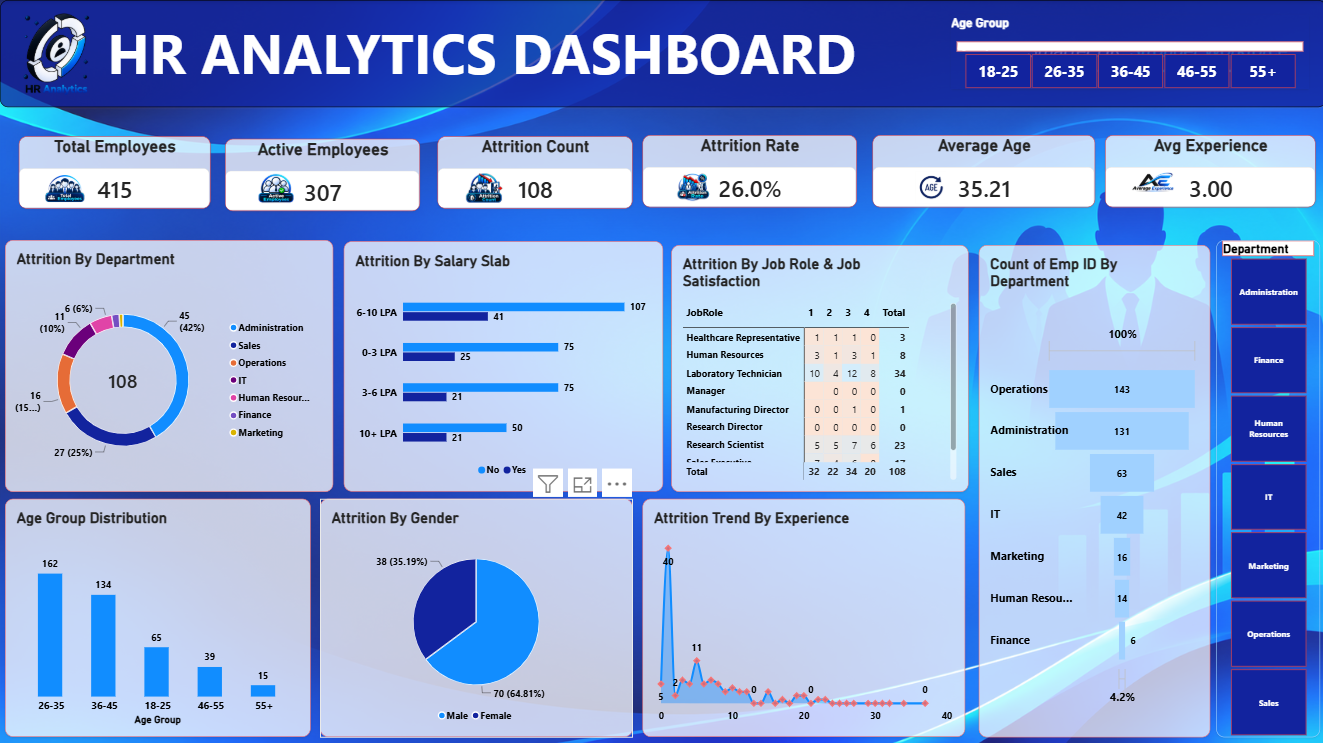

The dashboard page shown, as its layout file describes it:
{"tool":"powerbi","page":{"name":"Page 1","canvas":[1920,1080],"ordinal":0},"visuals":[{"type":"textbox","box":[0,0,1920,155],"z":0},{"type":"image","box":[7.5,10,147.5,132.5],"z":1000},{"type":"cardVisual","title":"Total Employees","fields":{"Data":["CountNonNull(HR_Analytics-4.EmpID)"]},"box":[27.5,197.5,277.5,105],"z":2000},{"type":"cardVisual","title":"Active Employees","fields":{"Data":["CountNonNull(HR_Analytics-4.EmployeeCount)"]},"box":[325,200,282.5,105],"z":3000},{"type":"cardVisual","title":"Attrition Count","fields":{"Data":["Sum(HR_Analytics-4.AttritionCount)"]},"box":[632.5,197.5,282.5,105],"z":4000},{"type":"cardVisual","title":"Attrition Rate","fields":{"Data":["HR_Analytics-4.Attrition Rate %"]},"box":[930,195,310,105],"z":5000},{"type":"cardVisual","title":"Average Age","fields":{"Data":["Avg(HR_Analytics-4.Age)"]},"box":[1262.5,195,322.5,105],"z":6000},{"type":"cardVisual","title":"Avg Experience","fields":{"Data":["Avg(HR_Analytics-4.YearsatCompany)"]},"box":[1600,195,305,105],"z":7000},{"type":"image","box":[58.3,235,71.7,78.3],"z":9000},{"type":"image","box":[666.7,250,71.7,46.7],"z":10000},{"type":"image","box":[363.3,245,71.7,58.3],"z":11000},{"type":"image","box":[1316.7,248.3,61.7,46.7],"z":12000},{"type":"image","box":[973.3,248.3,60,46.7],"z":13000},{"type":"image","box":[1635,227.5,70,72.5],"z":14000},{"type":"donutChart","title":"Attrition By Department","fields":{"Category":["HR_Analytics-4.Department"],"Y":["Sum(HR_Analytics-4.AttritionCount)"]},"box":[7.5,347.5,475,365],"z":15000},{"type":"clusteredBarChart","title":"Attrition By Salary Slab","fields":{"Category":["HR_Analytics-4.SalarySlab"],"Series":["HR_Analytics-4.Attrition"],"Y":["CountNonNull(HR_Analytics-4.EmpID)"]},"box":[497.5,350,462.5,362.5],"z":16000},{"type":"pivotTable","title":"Attrition By Job Role & Job Satisfaction","fields":{"Columns":["HR_Analytics-4.JobSatisfaction"],"Rows":["HR_Analytics-4.JobRole"],"Values":["Sum(HR_Analytics-4.AttritionCount)"]},"box":[972.5,355,430,357.5],"z":17000},{"type":"columnChart","title":"Age Group Distribution","fields":{"Category":["HR_Analytics-4.AgeGroup"],"Y":["Sum(HR_Analytics-4.EmployeeCount)"]},"box":[7.5,722.5,442.5,345],"z":17001},{"type":"pieChart","title":"Attrition By Gender","fields":{"Category":["HR_Analytics-4.Gender"],"Y":["Sum(HR_Analytics-4.AttritionCount)"]},"box":[462.5,722.5,452.5,345],"z":17002},{"type":"areaChart","title":"Attrition Trend By Experience","fields":{"Category":["HR_Analytics-4.TotalExperience(Years)"],"Y2":["Sum(HR_Analytics-4.AttritionCount)"]},"box":[930,722.5,467.5,345],"z":17003},{"type":"funnel","title":"Count of Emp ID By Department","fields":{"Category":["HR_Analytics-4.Department"],"Y":["CountNonNull(HR_Analytics-4.EmpID)"]},"box":[1417.5,355,335,712.5],"z":17004},{"type":"slicer","fields":{"Values":["HR_Analytics-4.Department"]},"box":[1760,347.5,150,720],"z":17005},{"type":"slicer","title":"Age Group","fields":{"Values":["HR_Analytics-4.AgeGroup"]},"box":[1377.5,22.5,517.5,107.5],"z":17006}]}

Visuals, with their boxes in screenshot pixels (x1, y1, x2, y2), scaled from the page's 1920x1080 canvas onto the 1323x743 screenshot:
textbox: (0,0,1322,107)
image: (5,7,107,98)
"Total Employees" cardVisual: (19,136,210,208)
"Active Employees" cardVisual: (224,138,419,210)
"Attrition Count" cardVisual: (436,136,630,208)
"Attrition Rate" cardVisual: (641,134,854,206)
"Average Age" cardVisual: (870,134,1092,206)
"Avg Experience" cardVisual: (1102,134,1313,206)
image: (40,162,90,216)
image: (459,172,509,204)
image: (250,169,300,209)
image: (907,171,950,203)
image: (671,171,712,203)
image: (1127,157,1175,206)
"Attrition By Department" donutChart: (5,239,332,490)
"Attrition By Salary Slab" clusteredBarChart: (343,241,662,490)
"Attrition By Job Role & Job Satisfaction" pivotTable: (670,244,966,490)
"Age Group Distribution" columnChart: (5,497,310,734)
"Attrition By Gender" pieChart: (319,497,630,734)
"Attrition Trend By Experience" areaChart: (641,497,963,734)
"Count of Emp ID By Department" funnel: (977,244,1208,734)
slicer - HR_Analytics-4.Department: (1213,239,1316,734)
"Age Group" slicer: (949,15,1306,89)
